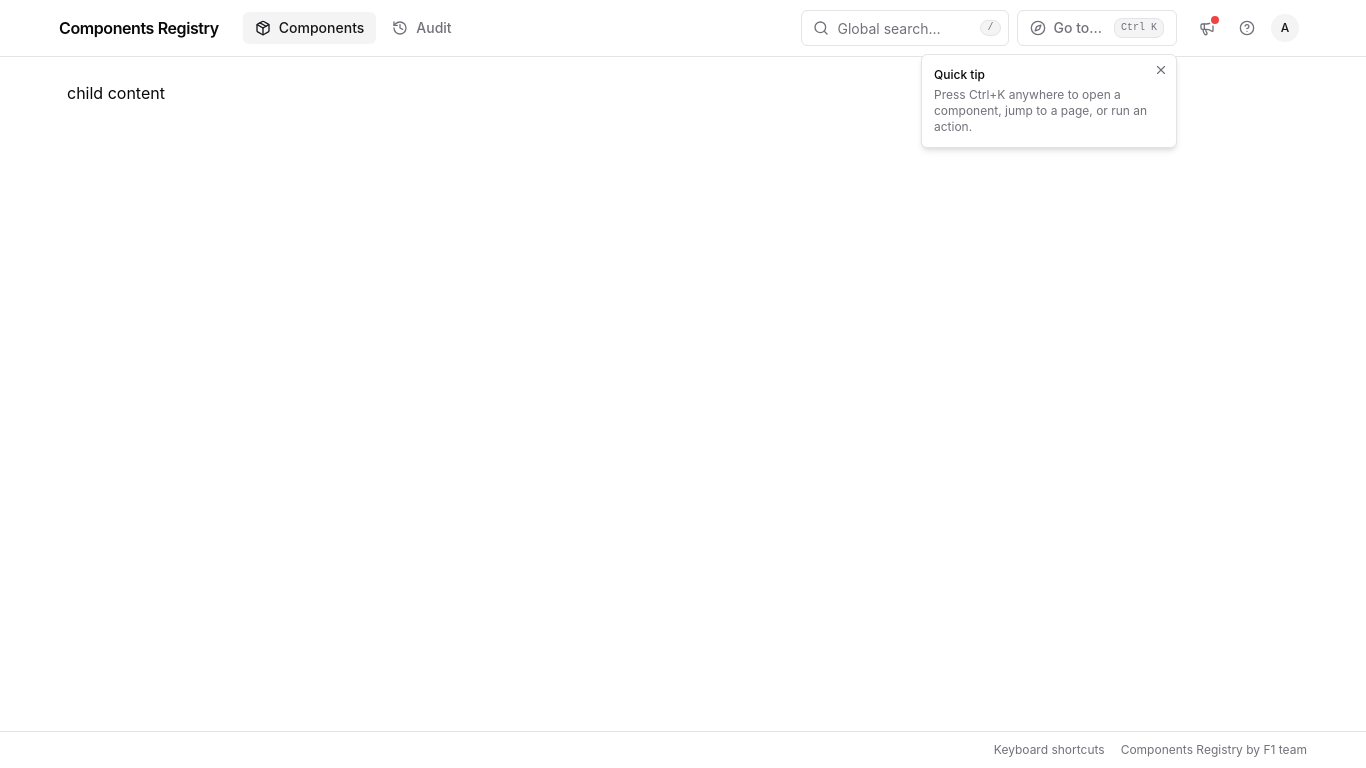
it: Layout nav visibility › shows Audit in the nav and Admin settings in the account menu for F1_ADMIN
Expected: the link "Components" is shown, [243,12,376,44]
Expected: the link "Audit" is shown, [392,19,452,36]
What coordinates should you click on to do the following:
click the button named "Account"
I would click on:
 (1288, 28)
Its box is [1269,10,1307,46].
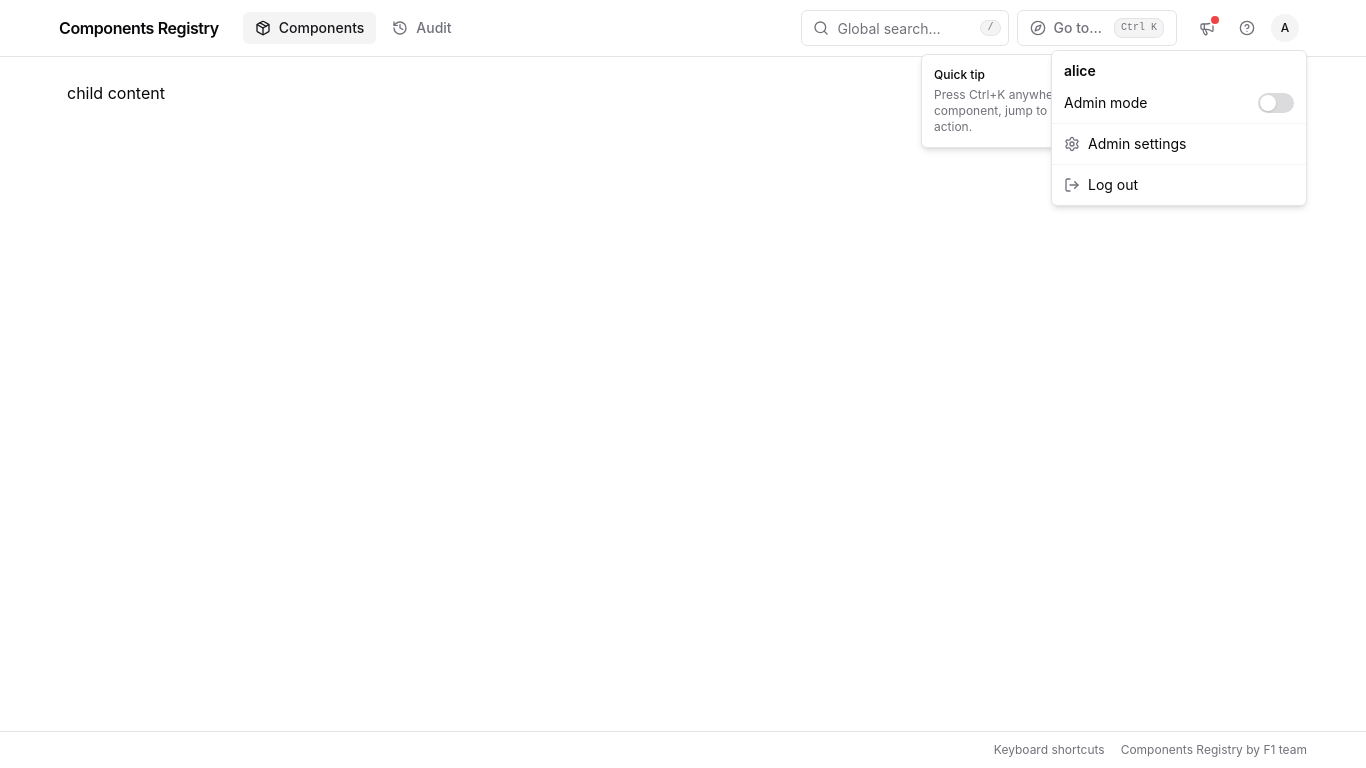
Now the text "alice" is shown, box [1064,62,1096,79]
Now the menu item "Admin settings" is shown, box [1064,135,1186,152]
